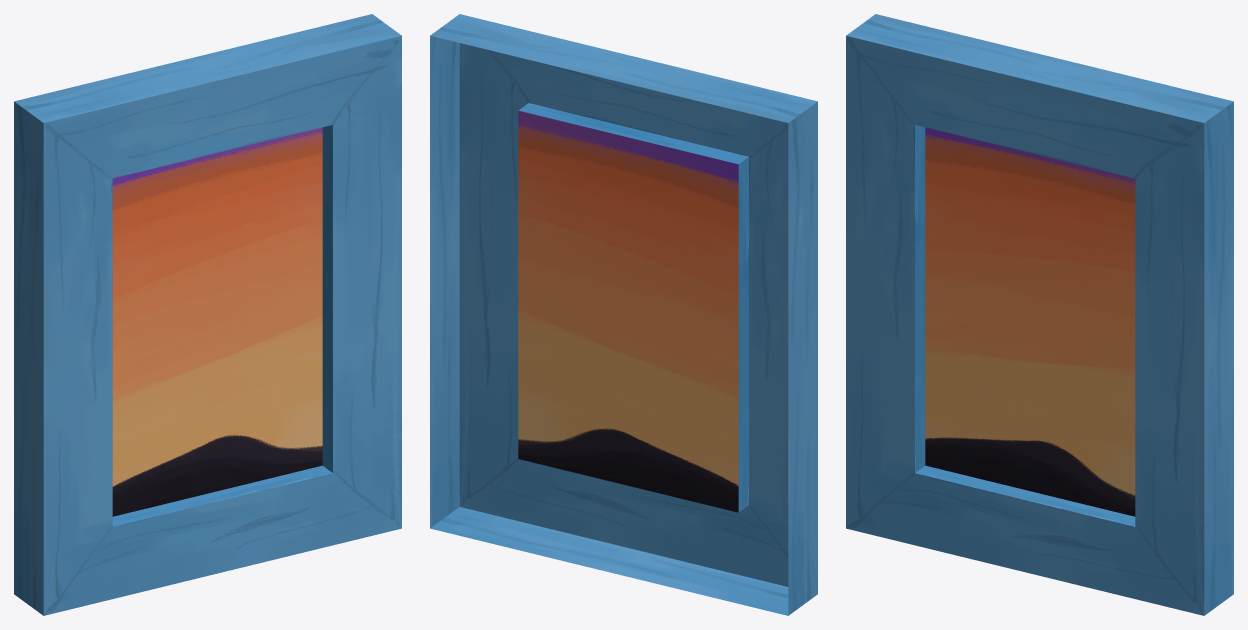
Rendered from Frame02.FBX.
The picture shows the model from 3 angles, left to right: view 1: azimuth 30°, elevation 25°; view 2: azimuth 150°, elevation 25°; view 3: azimuth 330°, elevation 25°; orthographic projection.
Parts seen in each view (by area): view 1: Frame02; view 2: Frame02; view 3: Frame02.
Boxes of the visible parts, x1,y1,x2,y2 form: Frame02: [14, 14, 401, 615]; Frame02: [430, 14, 817, 615]; Frame02: [846, 14, 1233, 615].
Size of the model in its own units: 28.44 by 37.39 by 4.08.
